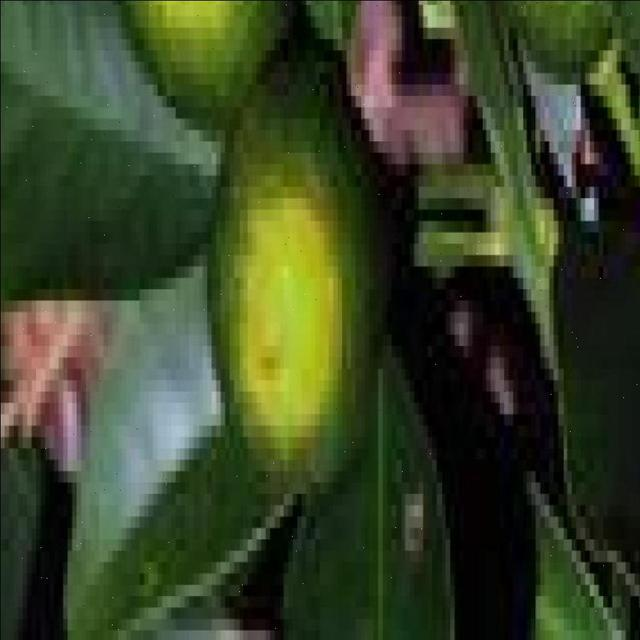Sunscald Fruit: (149, 109, 222, 314)
